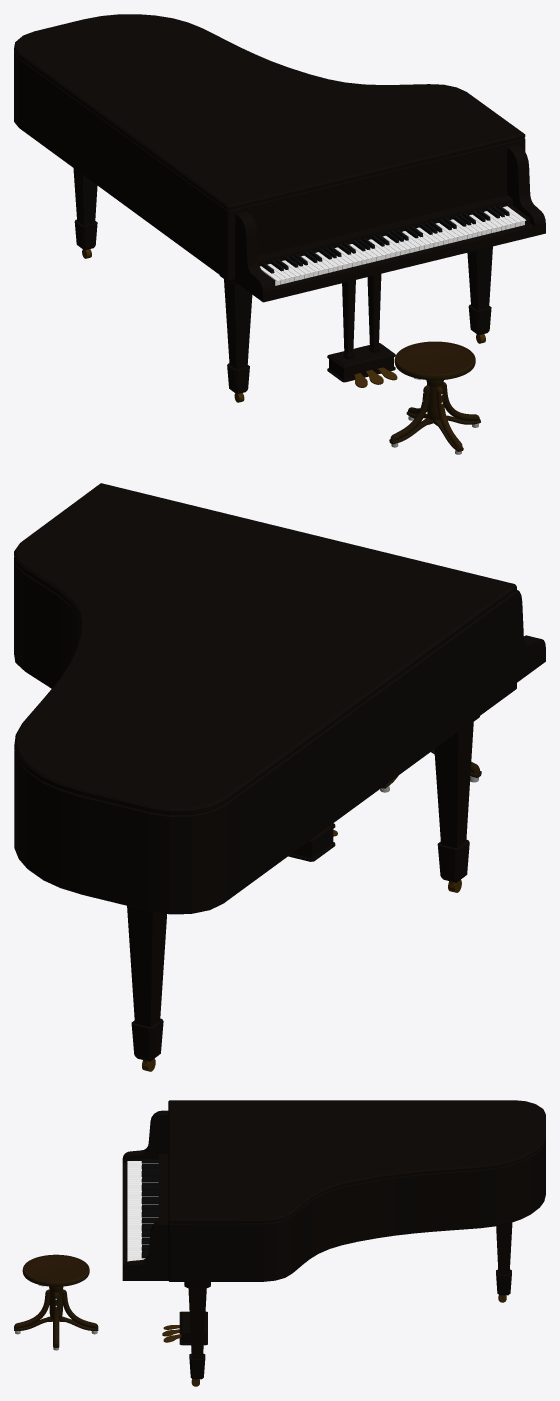
3 views of the same model, one above another, from view 1: azimuth 30°, elevation 25°; view 2: azimuth 150°, elevation 25°; view 3: azimuth 270°, elevation 25° (orthographic). The views are drawn at different scales.
Parts seen in each view (by area): view 1: Layer:PIANO_MAIN, Layer:PIANO_W_KEYS, uploads_files_147002_Piano_chair (×2), Layer:PIANO_B_KEYS, Layer:PIANO_BRASS; view 2: Layer:PIANO_MAIN; view 3: Layer:PIANO_MAIN, uploads_files_147002_Piano_chair (×2), Layer:PIANO_W_KEYS, Layer:PIANO_B_KEYS, Layer:PIANO_BRASS.
Part boxes in pixels (left/top/right/bottom): Layer:PIANO_MAIN: left=14, top=14, right=545, bottom=393; Layer:PIANO_W_KEYS: left=260, top=206, right=526, bottom=285; uploads_files_147002_Piano_chair (×2): left=394, top=341, right=475, bottom=380; Layer:PIANO_B_KEYS: left=261, top=205, right=509, bottom=273; Layer:PIANO_BRASS: left=82, top=249, right=485, bottom=402; Layer:PIANO_MAIN: left=14, top=483, right=545, bottom=1061; Layer:PIANO_MAIN: left=122, top=1100, right=545, bottom=1379; uploads_files_147002_Piano_chair (×2): left=22, top=1254, right=89, bottom=1286; Layer:PIANO_W_KEYS: left=127, top=1161, right=158, bottom=1261; Layer:PIANO_B_KEYS: left=141, top=1159, right=158, bottom=1258; Layer:PIANO_BRASS: left=162, top=1295, right=506, bottom=1386.
Bounding box in the file's own units: 17.18 × 11.81 × 32.11.
32 materials, 4 textured.
